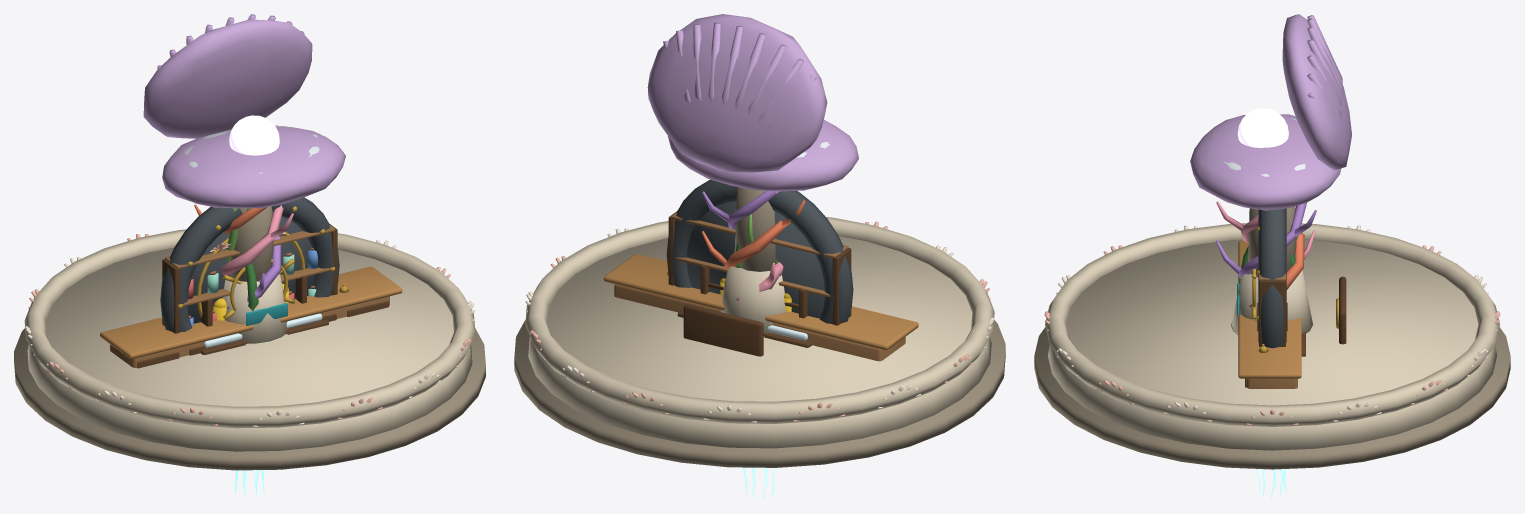
Rendered from coralhaven.glb.
The picture shows the model from 3 angles, left to right: view 1: azimuth 30°, elevation 25°; view 2: azimuth 150°, elevation 25°; view 3: azimuth 270°, elevation 25°; orthographic projection. The views are drawn at different scales.
Visible parts, largest first — view 1: ch_fountain, ch_hatch, ch_counter, ch_shelf, ch_icetable, ch_tankrack, ch_planter; view 2: ch_fountain, ch_hatch, ch_counter, ch_bed, ch_shelf, ch_tankrack, ch_icetable; view 3: ch_fountain, ch_counter, ch_hatch, ch_shelf, ch_bed.
Boxes of the visible parts, bbox=[...] form: ch_fountain: bbox=[14, 14, 485, 470]; ch_hatch: bbox=[160, 197, 339, 331]; ch_counter: bbox=[100, 266, 402, 368]; ch_shelf: bbox=[162, 224, 337, 333]; ch_icetable: bbox=[200, 303, 328, 354]; ch_tankrack: bbox=[201, 275, 306, 326]; ch_planter: bbox=[227, 208, 258, 310]; ch_fountain: bbox=[514, 14, 1005, 467]; ch_hatch: bbox=[666, 179, 853, 323]; ch_counter: bbox=[603, 254, 918, 361]; ch_bed: bbox=[683, 304, 763, 356]; ch_shelf: bbox=[668, 211, 851, 325]; ch_tankrack: bbox=[700, 265, 807, 318]; ch_icetable: bbox=[677, 310, 812, 347]; ch_fountain: bbox=[1034, 14, 1510, 469]; ch_counter: bbox=[1238, 240, 1301, 388]; ch_hatch: bbox=[1251, 208, 1286, 348]; ch_shelf: bbox=[1259, 274, 1285, 346]; ch_bed: bbox=[1336, 276, 1346, 344].
Bounding box in the file's own units: 7.8 × 8.43 × 7.8.
